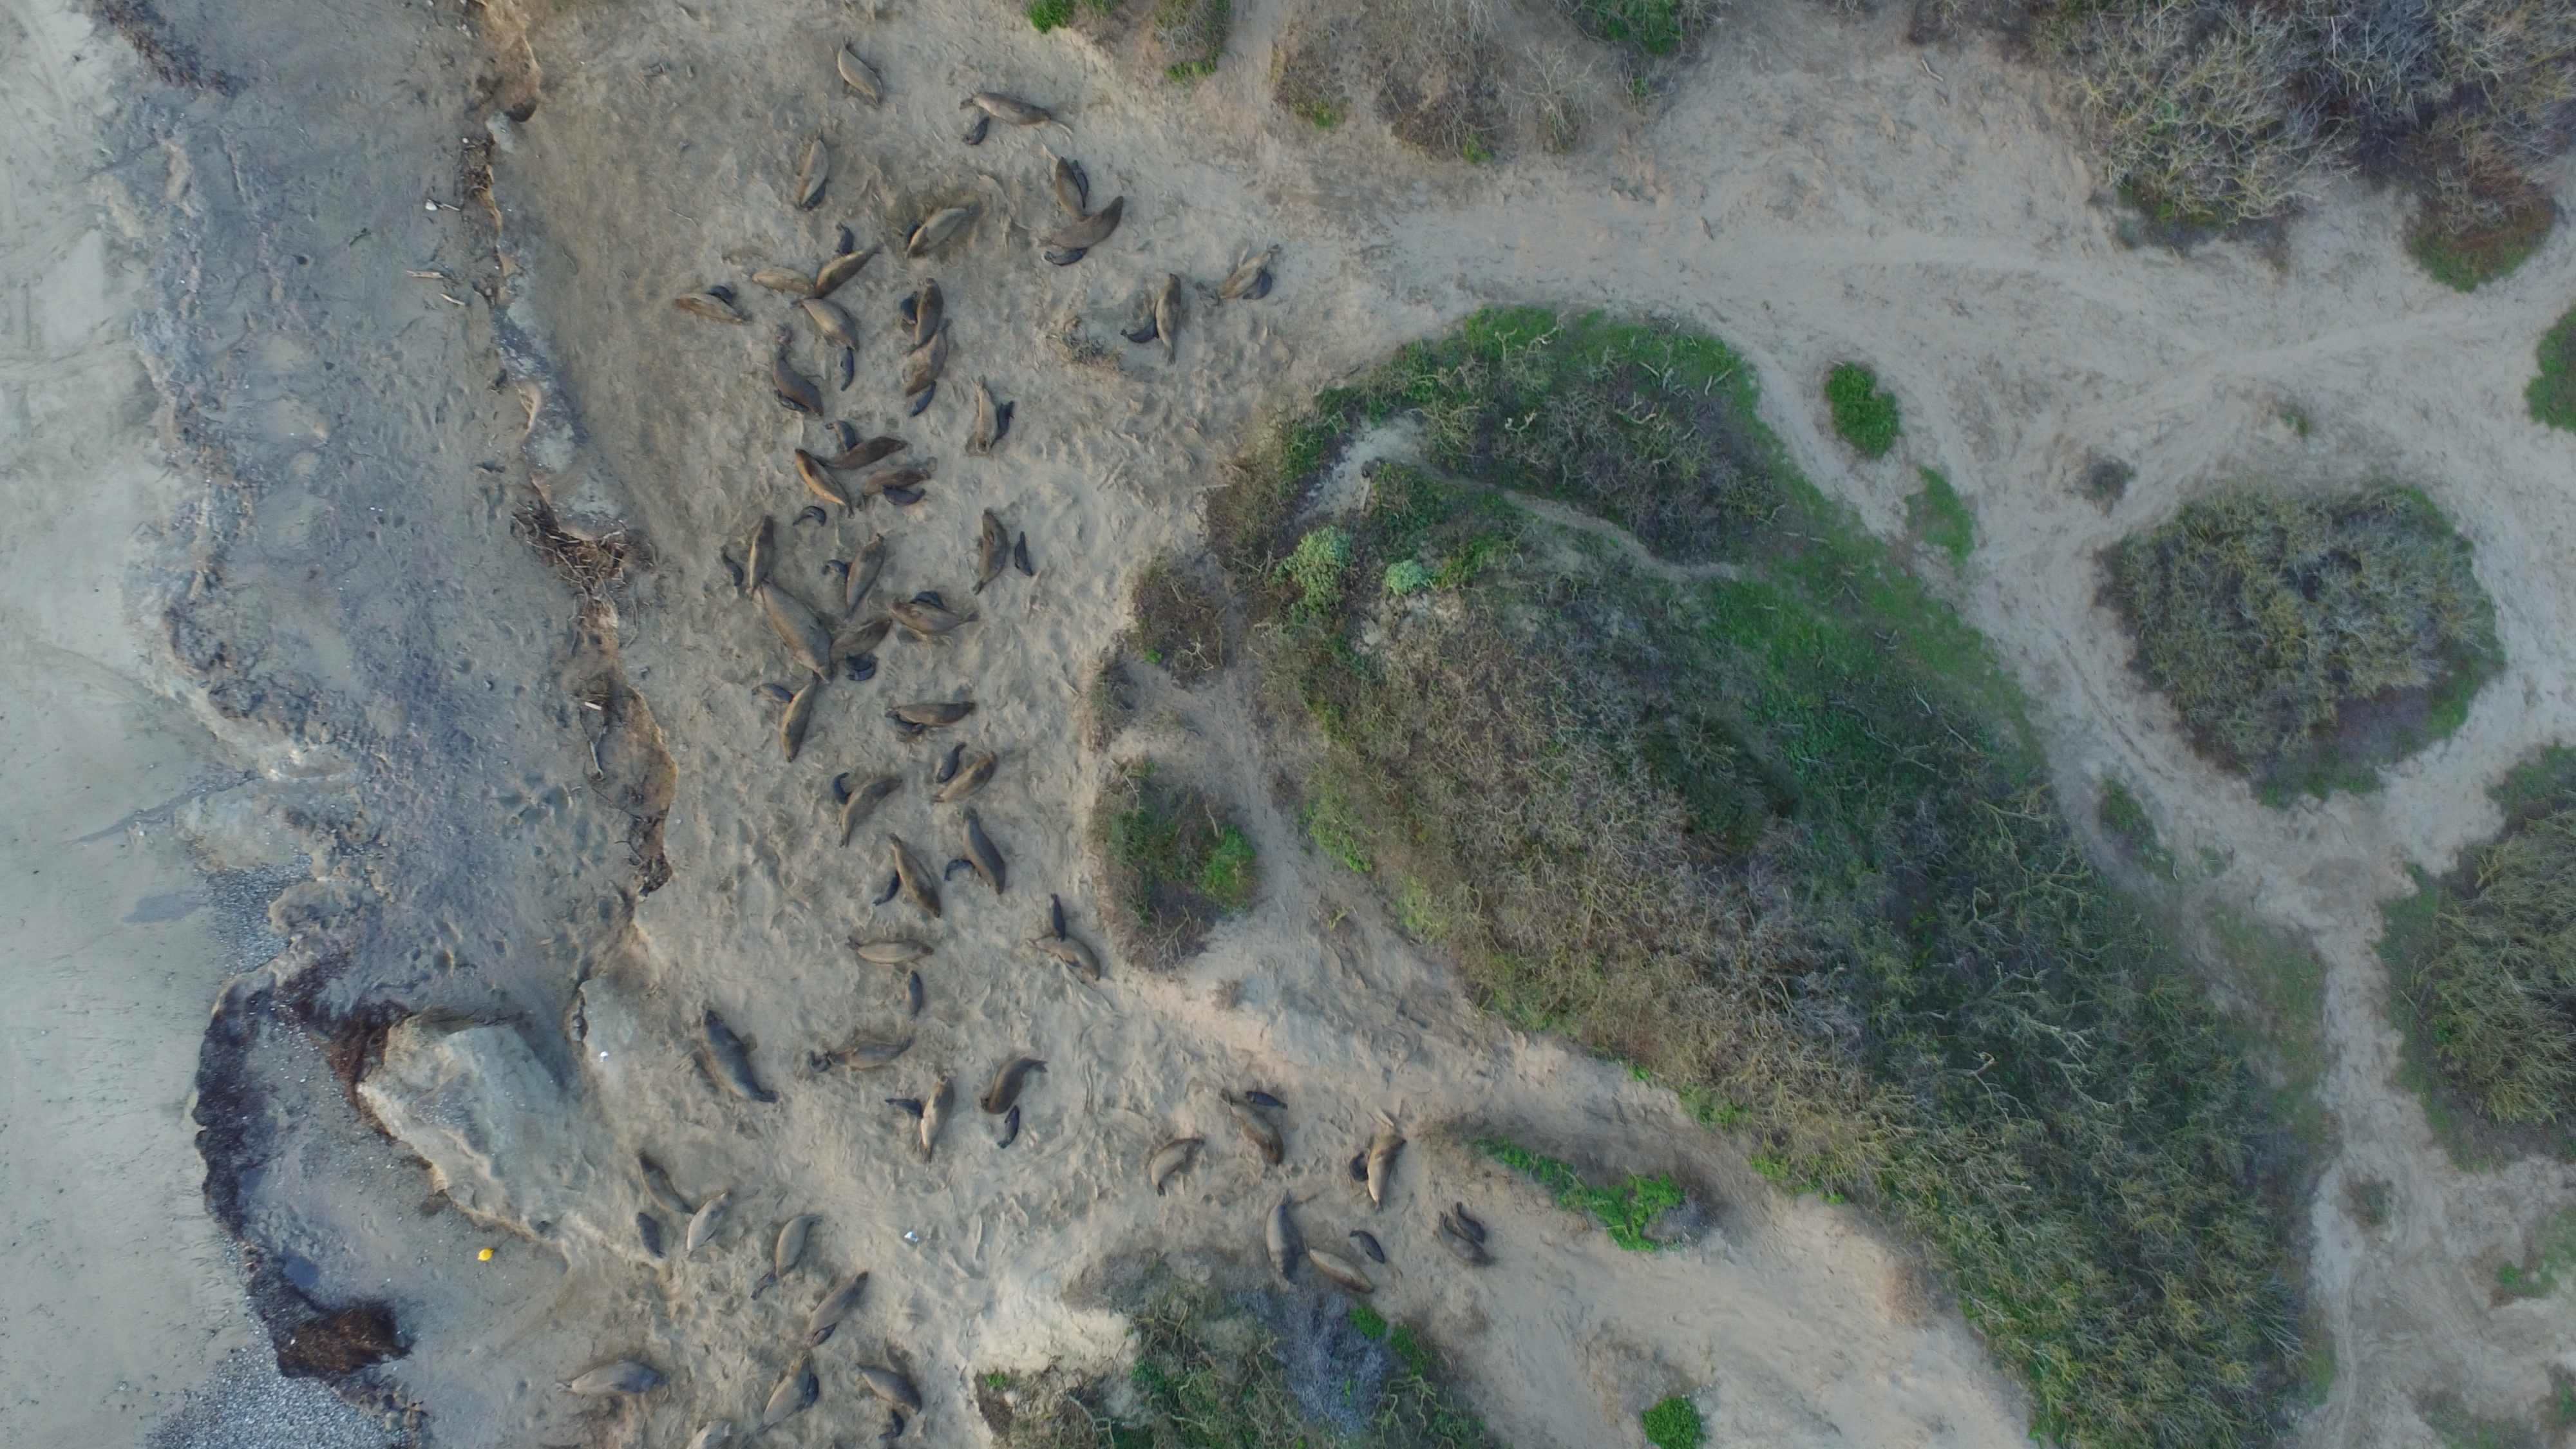adult male: (750, 579, 844, 694), (692, 1001, 784, 1111), (559, 1357, 674, 1398), (671, 1417, 745, 1449)
male juvenile / female juvenile / adult female: (1212, 1088, 1290, 1168), (832, 775, 909, 849), (952, 807, 1014, 897), (786, 446, 858, 522), (1039, 196, 1134, 253), (897, 315, 961, 400), (1207, 241, 1288, 306), (1258, 1191, 1309, 1293), (897, 202, 978, 265), (824, 41, 897, 111), (754, 1352, 819, 1430), (1138, 1134, 1215, 1200), (809, 239, 888, 303), (768, 338, 828, 421), (839, 531, 892, 621), (849, 1364, 932, 1421), (1355, 1131, 1410, 1215), (630, 1152, 701, 1217), (803, 1269, 876, 1332), (1024, 931, 1108, 984), (791, 295, 869, 352), (775, 672, 821, 768), (980, 1051, 1049, 1113), (1300, 1244, 1378, 1299), (814, 432, 911, 474), (959, 90, 1060, 131), (911, 1072, 955, 1164), (1042, 154, 1097, 226), (1146, 271, 1187, 366), (787, 129, 833, 211), (683, 1191, 740, 1256), (886, 600, 982, 637), (973, 506, 1010, 600), (741, 513, 782, 594), (740, 264, 824, 303), (770, 1212, 816, 1283), (830, 1037, 920, 1072), (842, 938, 938, 968), (883, 701, 980, 729)
pup: (1445, 1203, 1499, 1251), (895, 968, 936, 1030), (628, 1210, 672, 1265), (713, 545, 750, 596), (869, 867, 908, 915), (931, 743, 970, 789), (1008, 531, 1042, 582), (1042, 893, 1072, 950), (1063, 159, 1099, 207), (821, 418, 863, 456), (1031, 248, 1097, 272), (904, 379, 941, 421), (1348, 1231, 1391, 1269), (1120, 317, 1164, 352), (1240, 1088, 1295, 1116), (1240, 267, 1279, 306), (993, 396, 1021, 449), (748, 681, 801, 709), (878, 1095, 931, 1123), (770, 386, 814, 419), (796, 175, 832, 214), (833, 343, 860, 395), (885, 713, 932, 741), (904, 589, 954, 616), (1000, 1104, 1024, 1155), (876, 1407, 909, 1444), (881, 487, 931, 511), (702, 281, 743, 311), (959, 113, 993, 149), (1343, 1150, 1373, 1189), (789, 502, 830, 531), (826, 770, 855, 810), (941, 856, 980, 885), (819, 554, 855, 584), (801, 1369, 824, 1414), (828, 223, 856, 258), (895, 292, 922, 329), (837, 663, 883, 685), (807, 1322, 837, 1353), (837, 653, 881, 674), (803, 1049, 835, 1077)
